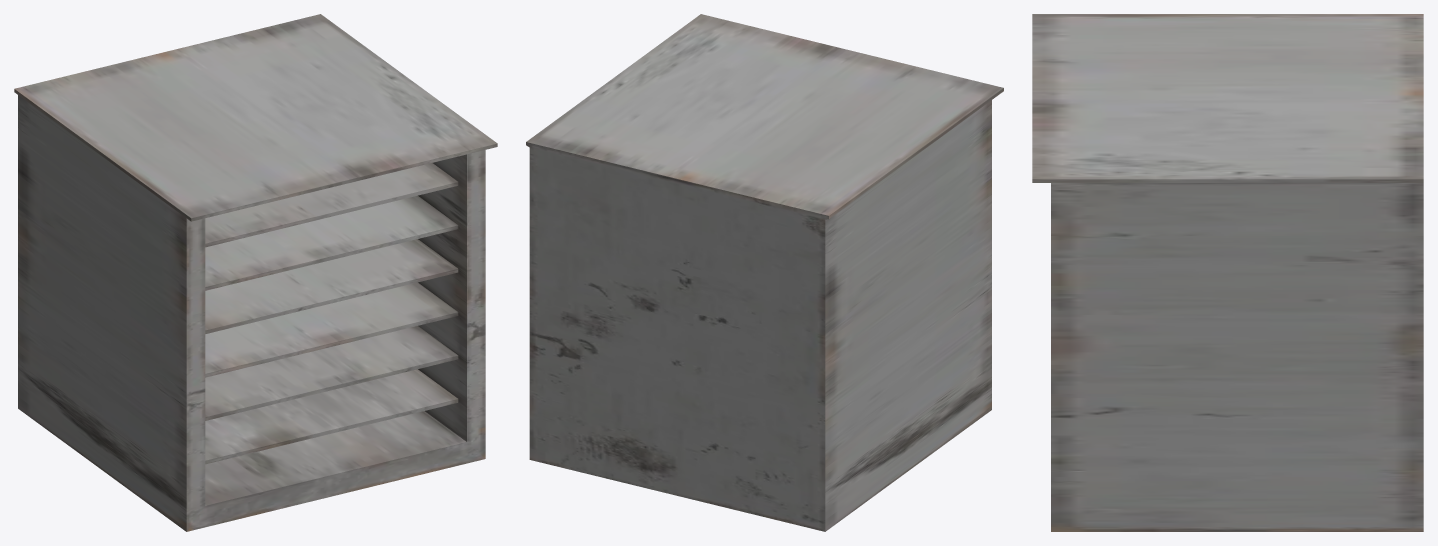
Rendered from ph-shelf-01.glb.
3 views of the same model, side by side, from view 1: azimuth 30°, elevation 25°; view 2: azimuth 150°, elevation 25°; view 3: azimuth 270°, elevation 25° (orthographic). The views are drawn at different scales.
Visible parts, largest first — view 1: Shelf_01; view 2: Shelf_01; view 3: Shelf_01.
Part boxes in pixels (box(x1,y1,x2,y2)): Shelf_01: box(14, 14, 497, 531); Shelf_01: box(526, 14, 1003, 531); Shelf_01: box(1032, 14, 1423, 531).
Bounding box in the file's own units: 1 × 1 × 1.
Materials: 1 (1 with a texture image).
